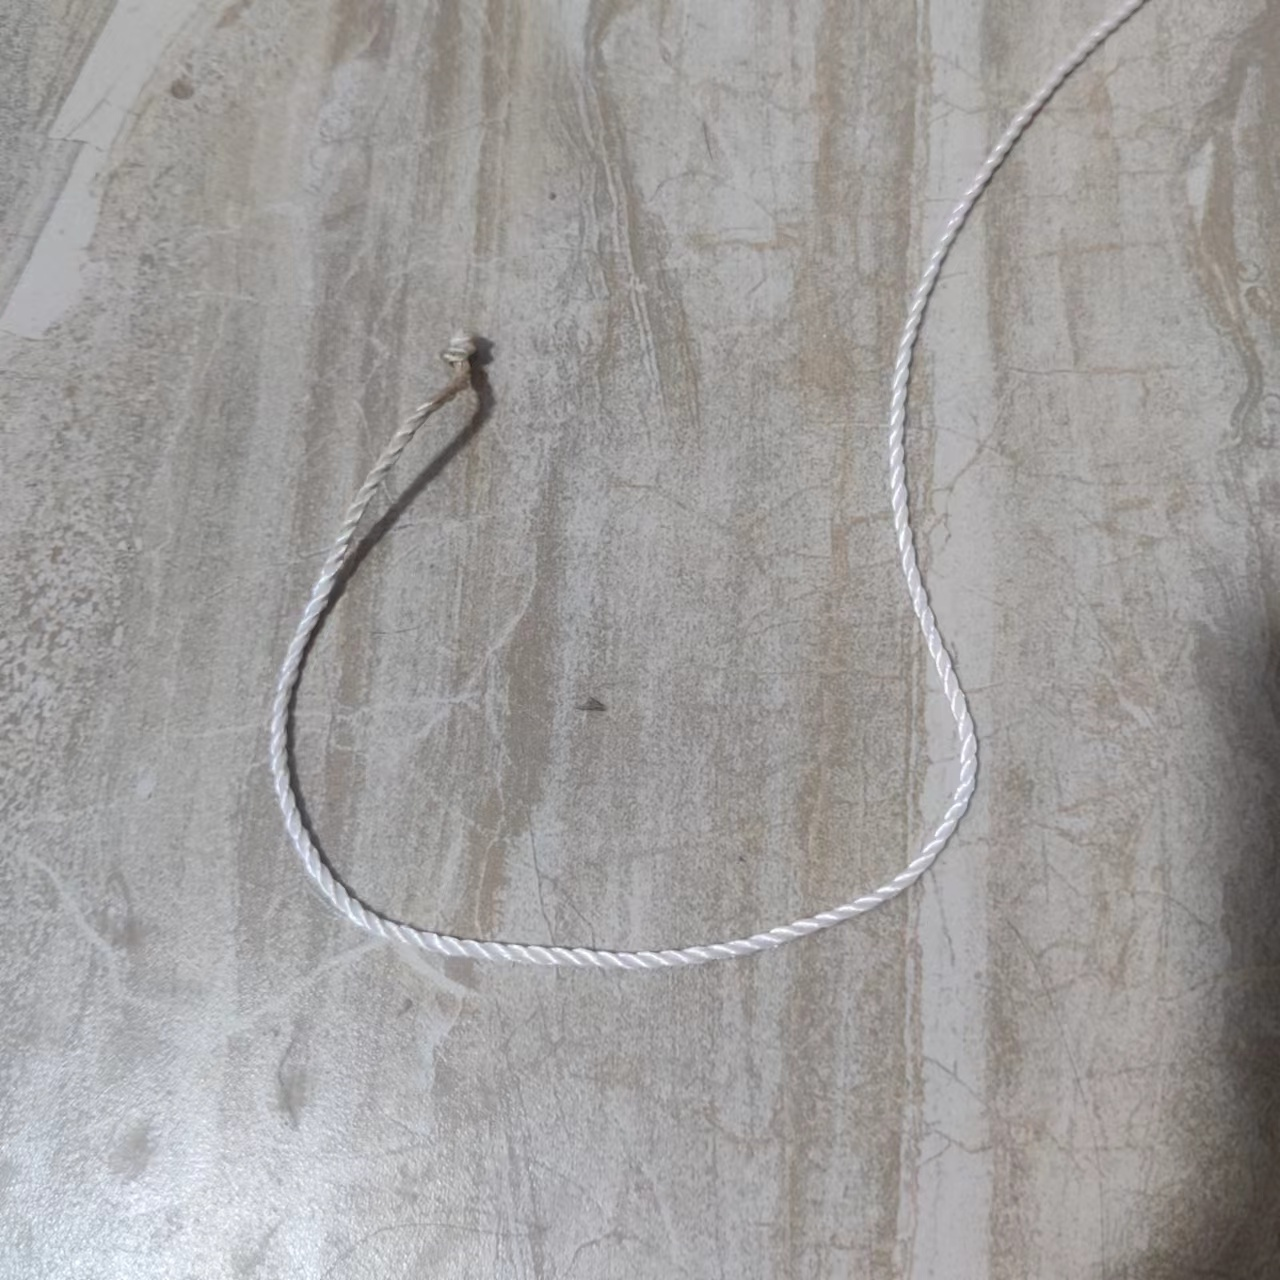9/可回收垃圾/绳子: (267, 1, 1146, 973)
